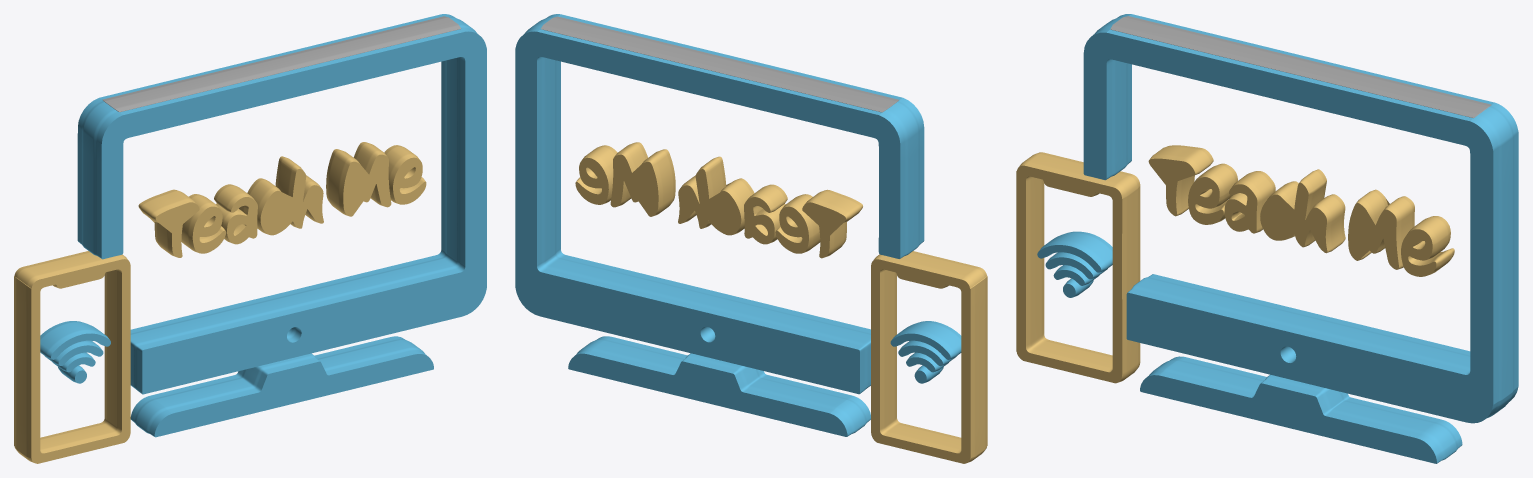
The model's file is teachme.fbx.
The picture shows the model from 3 angles, left to right: view 1: azimuth 30°, elevation 25°; view 2: azimuth 150°, elevation 25°; view 3: azimuth 330°, elevation 25°; orthographic projection. The views are drawn at different scales.
Visible parts, largest first — view 1: polySurface1; view 2: polySurface1; view 3: polySurface1.
Part boxes in pixels (left/top/right/bottom): polySurface1: left=14, top=14, right=486, bottom=463; polySurface1: left=515, top=14, right=987, bottom=463; polySurface1: left=1016, top=14, right=1518, bottom=463.
Size of the model in its own units: 37.03 by 26.02 by 3.37.
